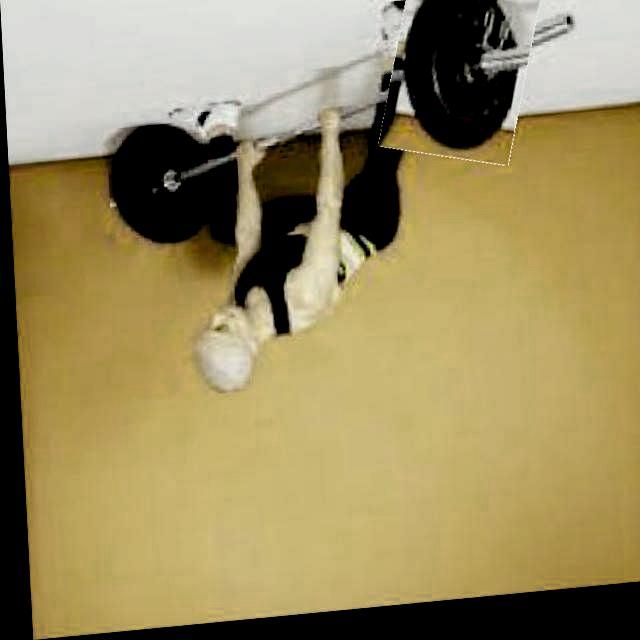barbell: (380, 1, 539, 178)
